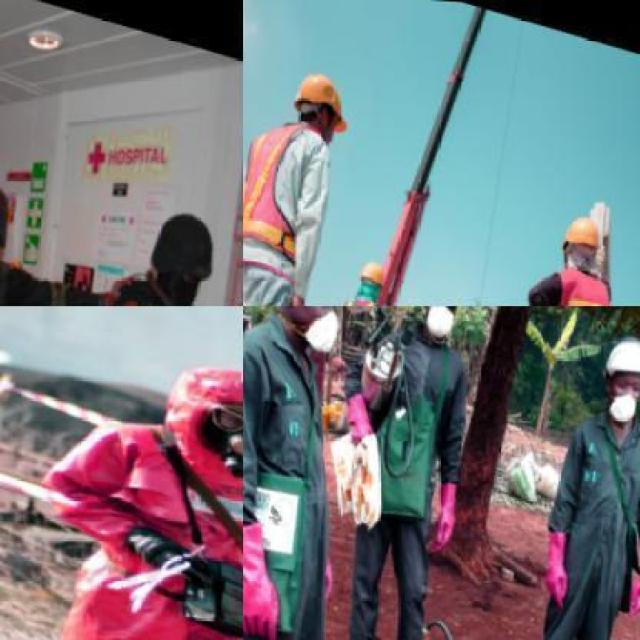Vest: (0, 392, 242, 638), (243, 96, 340, 276), (521, 249, 634, 305), (317, 283, 388, 305)
